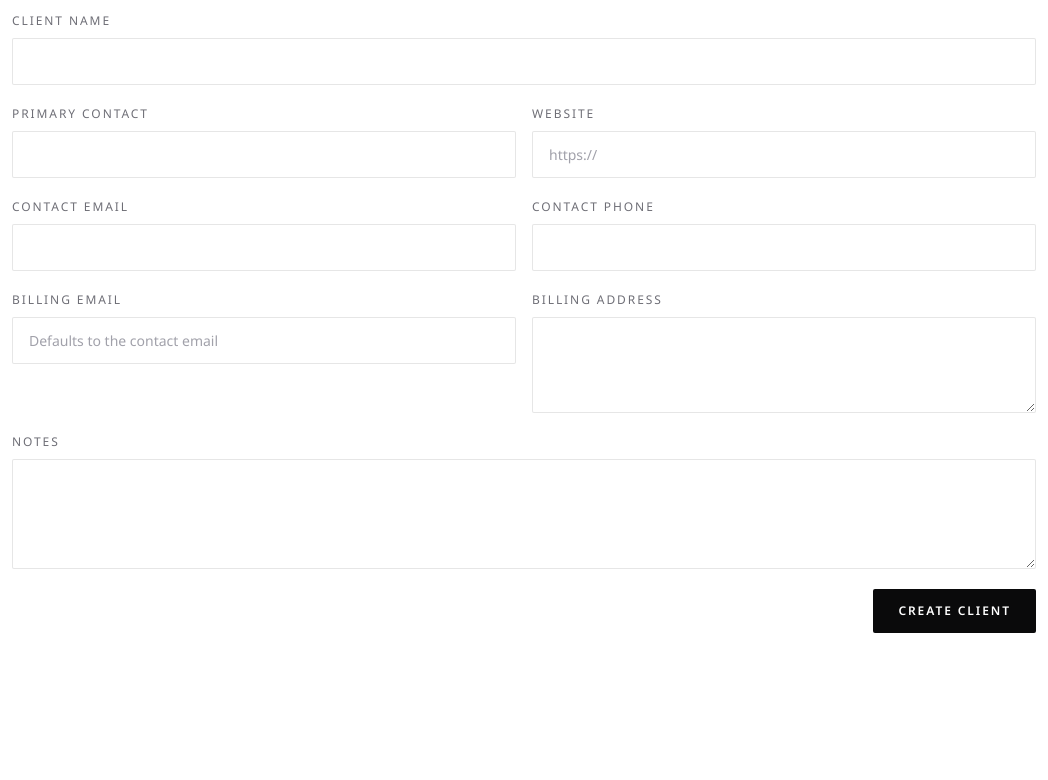
ClientForm — create mode › shows a validation error instead of submitting when the name is blank
Click the button "Create client": {"x": 955, "y": 611} x1=873 y1=589 x2=1036 y2=633
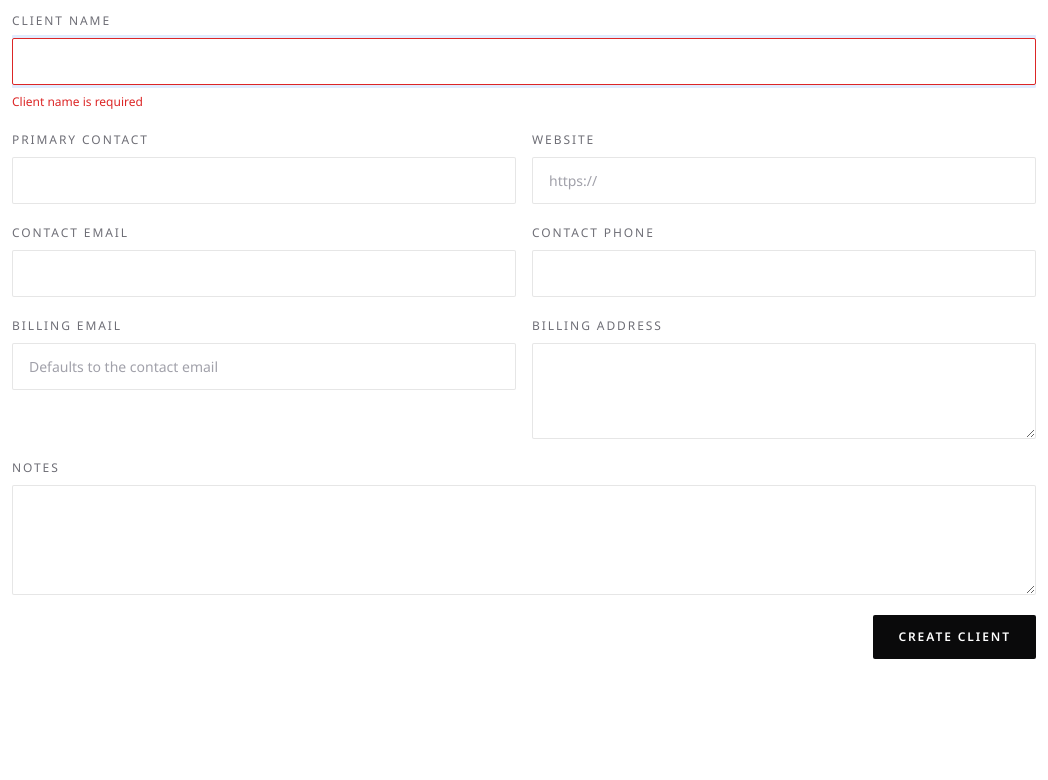
Result: the text "Client name is required" is shown at x1=12 y1=93 x2=143 y2=110
